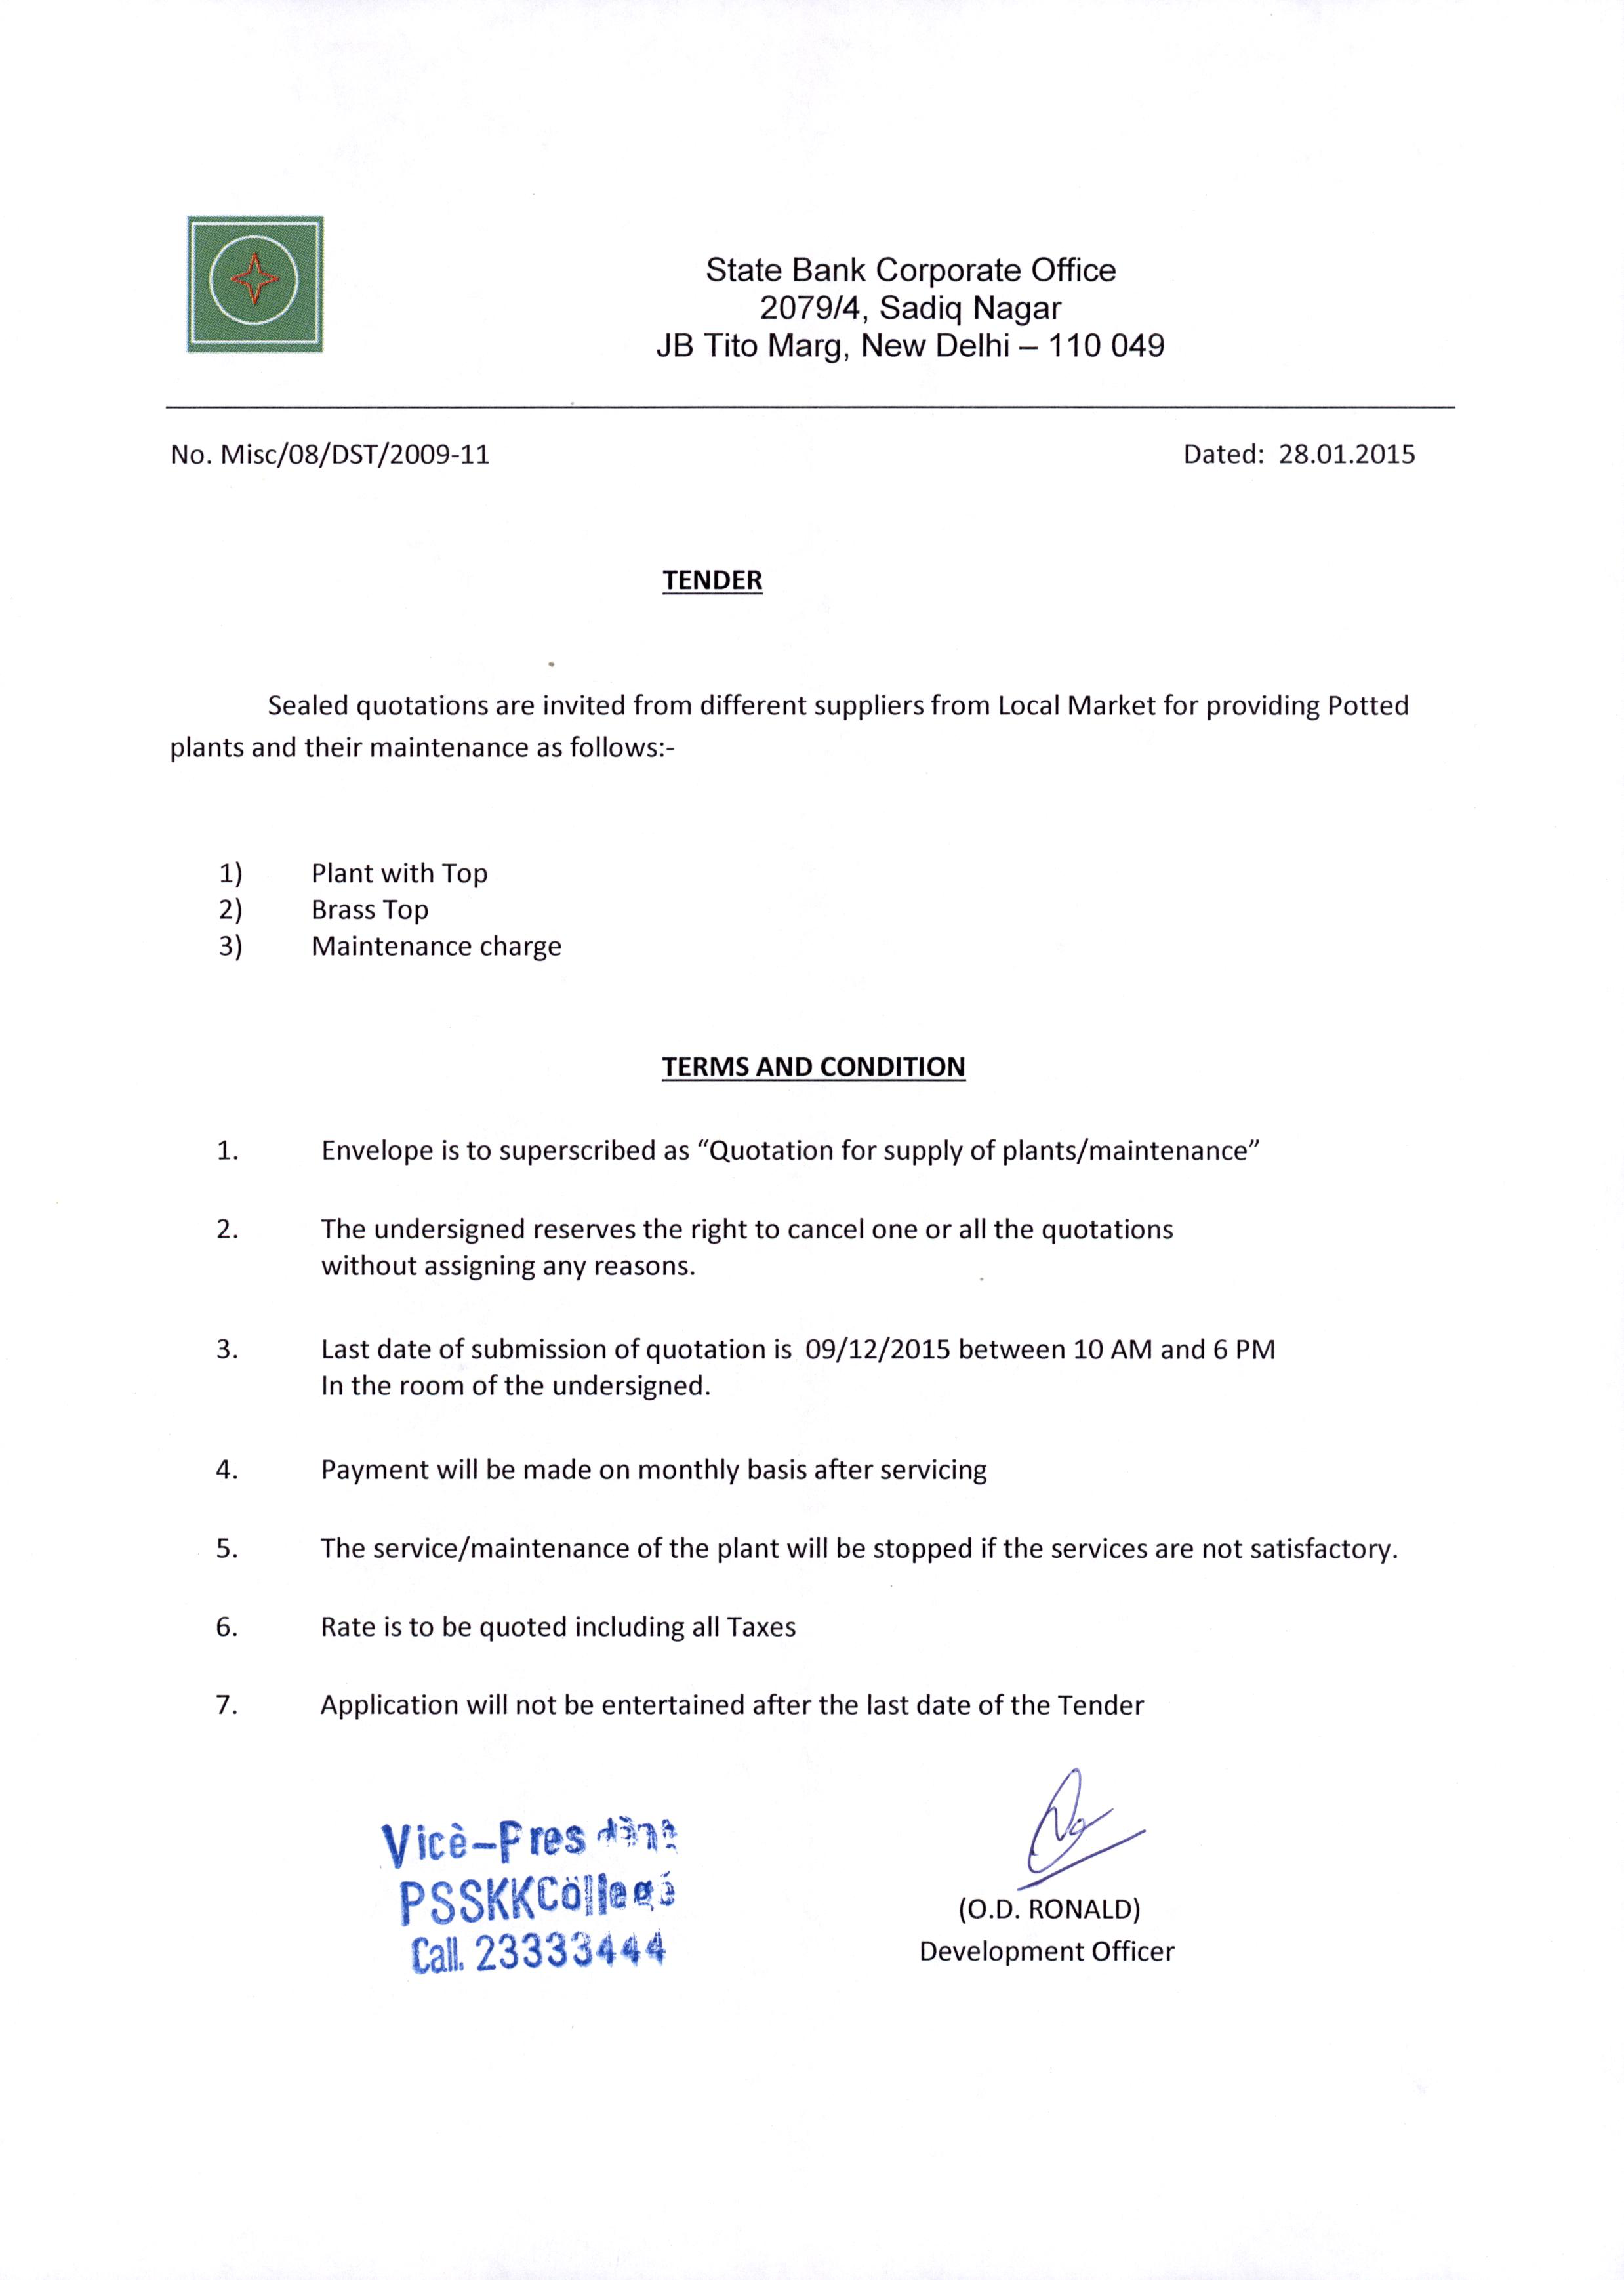Signature: (1016, 1760, 1158, 1886)
